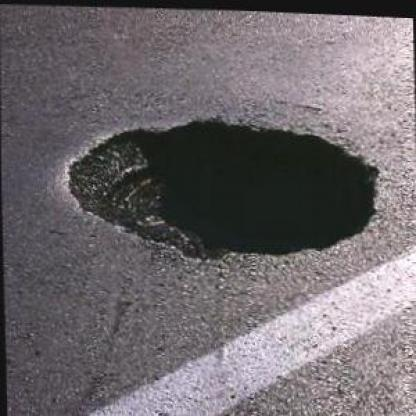pothole: (57, 100, 384, 270)
